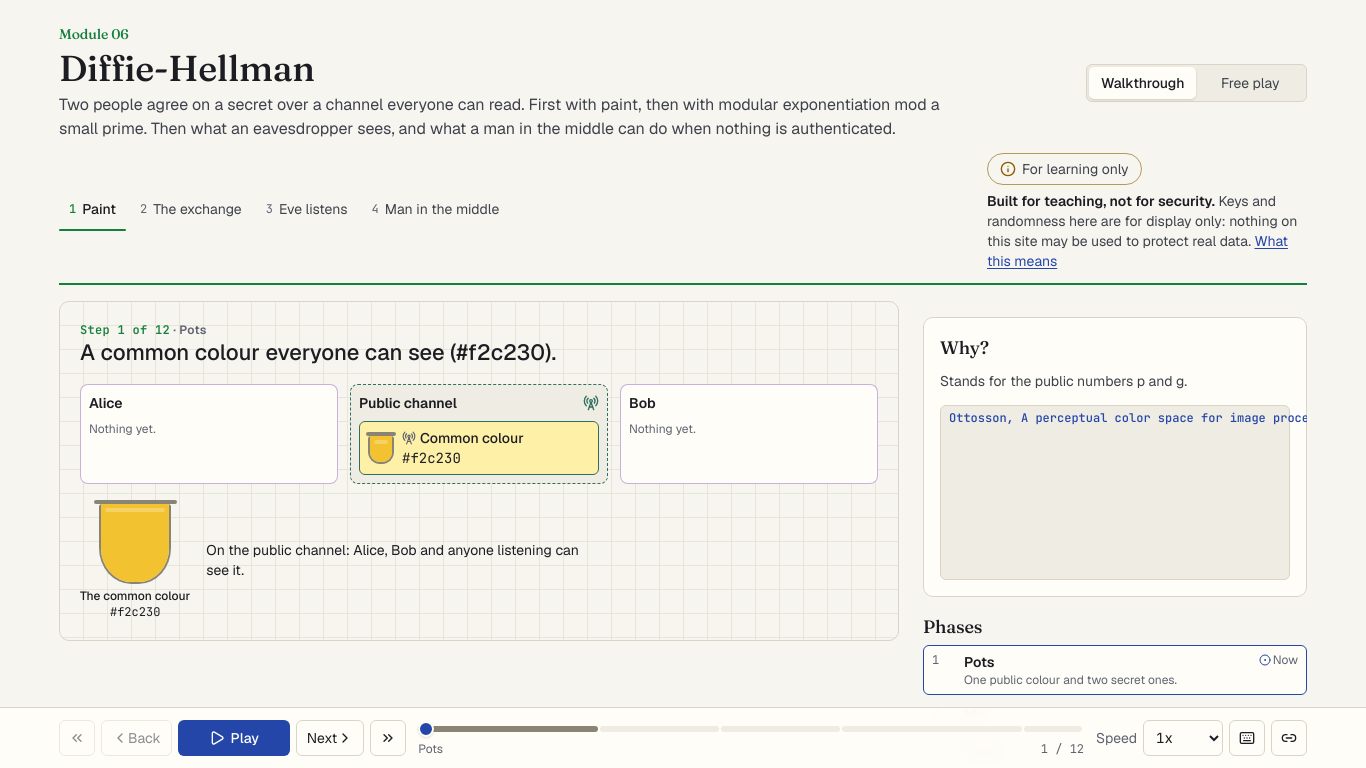
DhModule › takes free-play private keys and refuses one out of range
Click the button "2 The exchange": (191, 209) [130, 193, 252, 225]
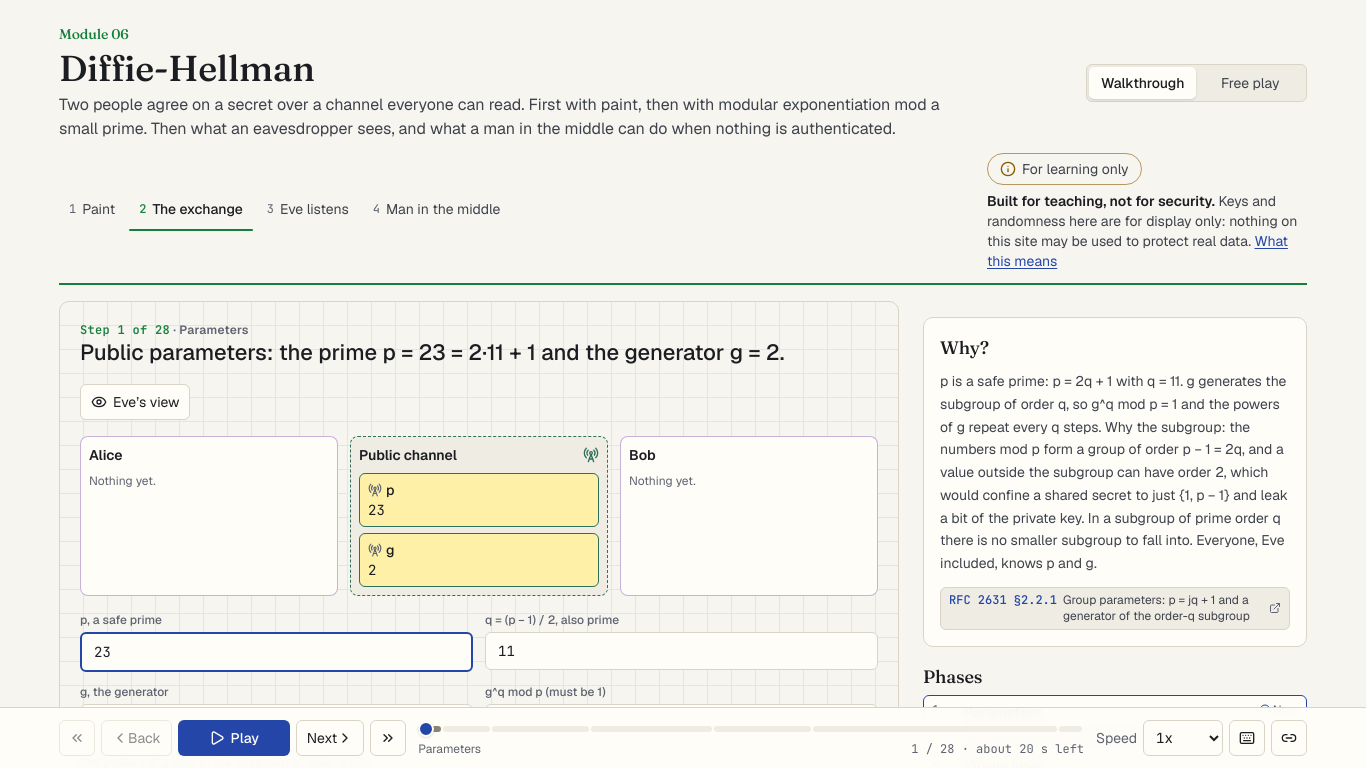
Click the button "Free play": (1250, 82) [1196, 66, 1304, 98]
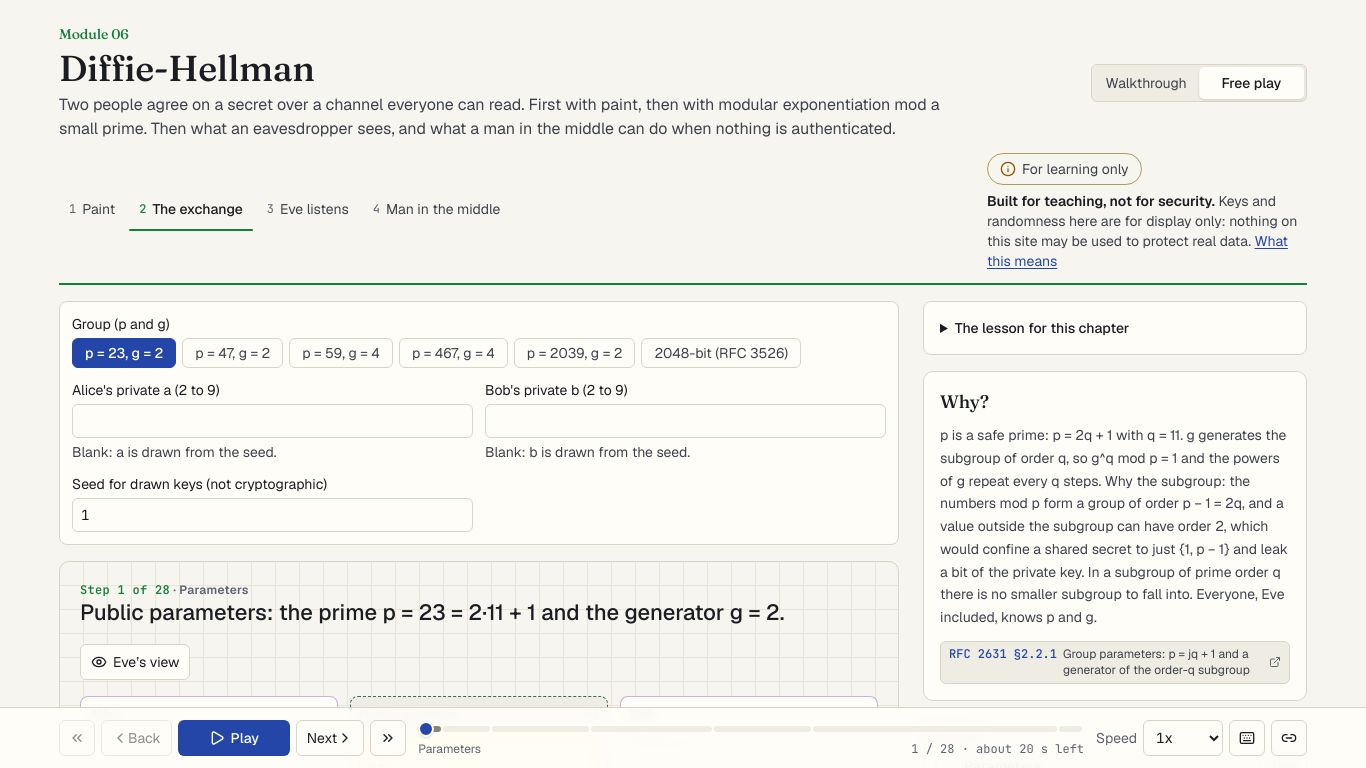
In the field labelled "Alice's private a (2 to 9)": (272, 421) [72, 404, 473, 438], type "20"
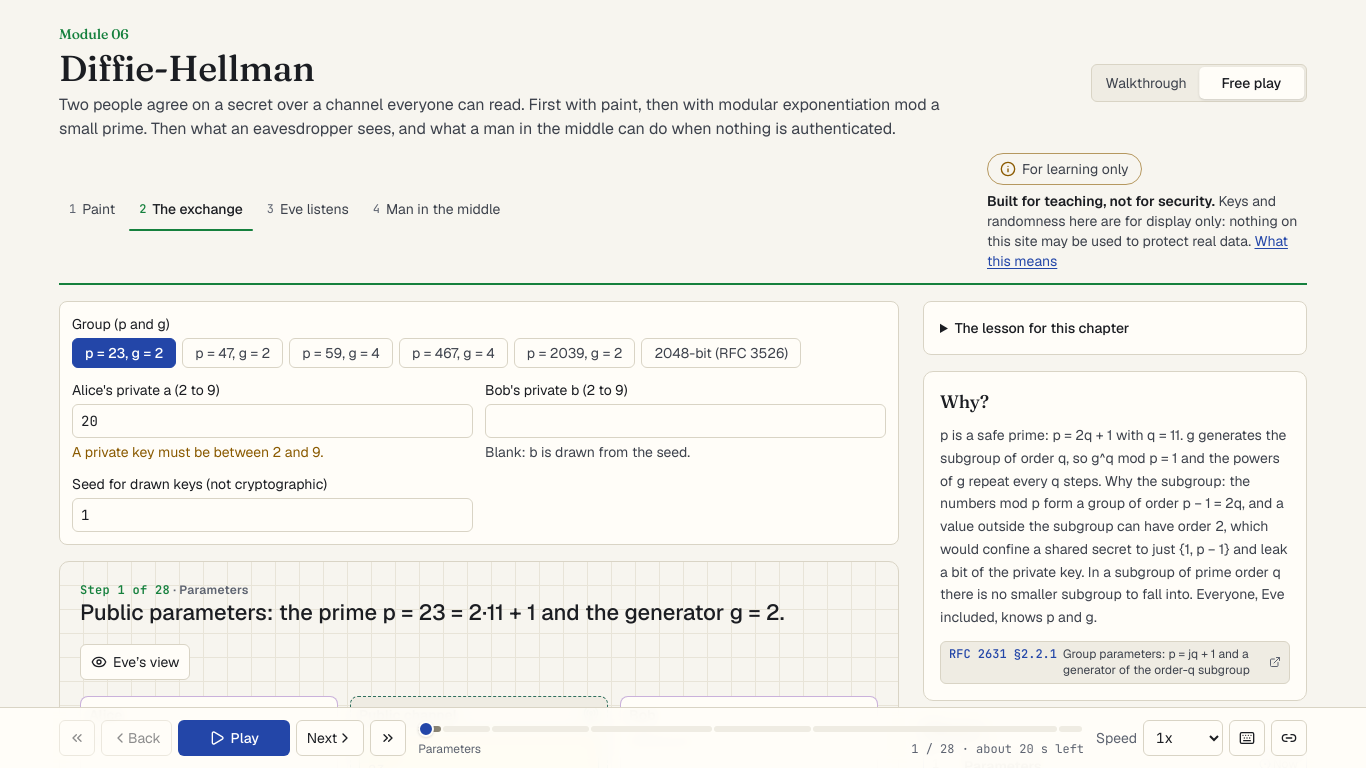
Now the text with test id "dh-a-feedback" shows "between 2 and 9", box [72, 443, 323, 461]
Replace the text in the field labelled "Alice's private a (2 to 9)" with "3": (272, 421) [72, 404, 473, 438]
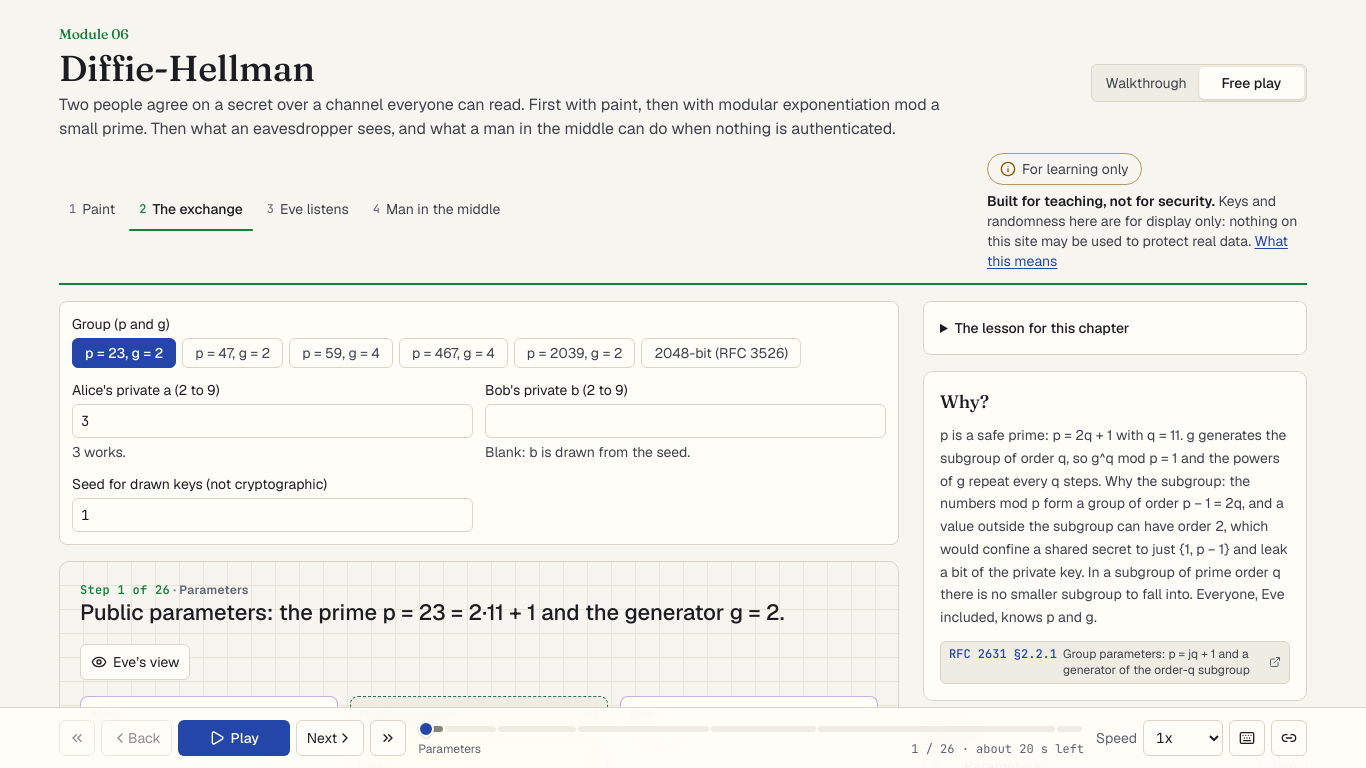
Press ArrowRight
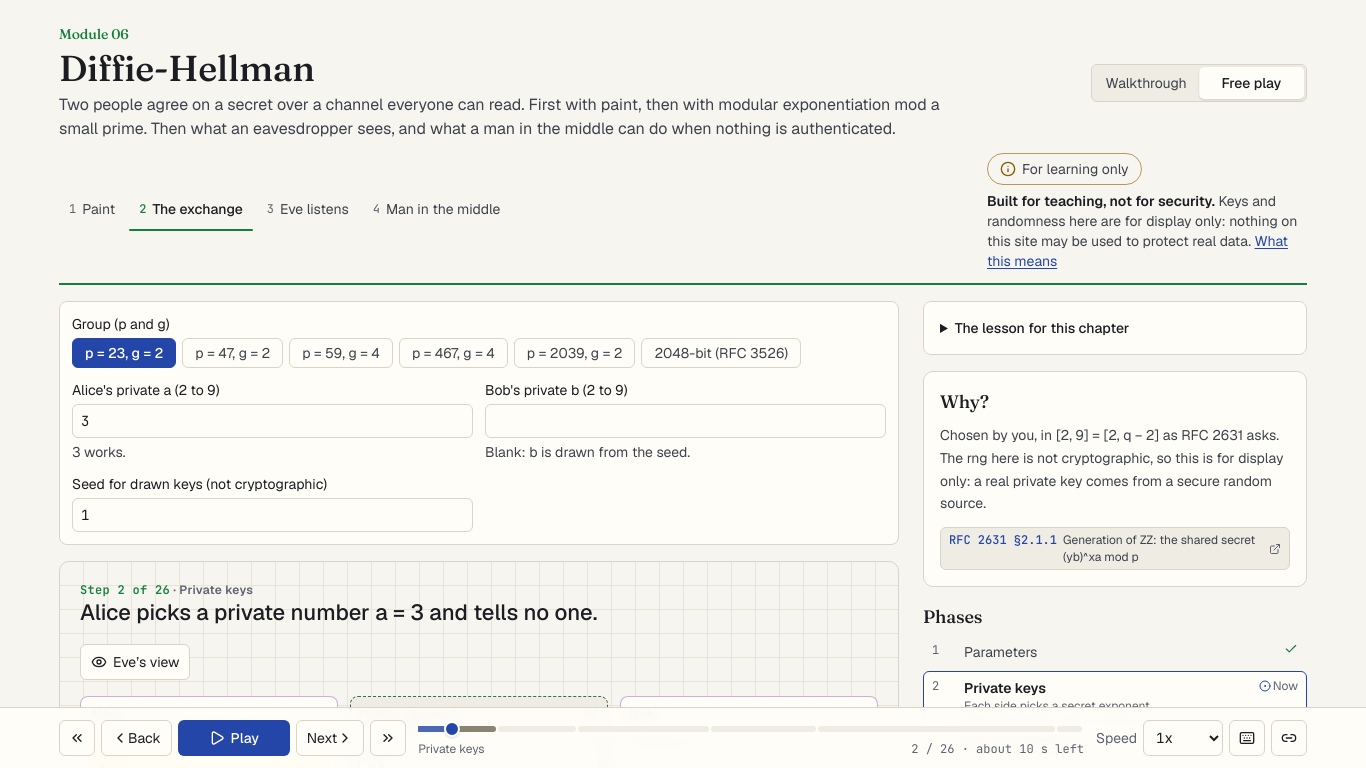
Now the message shows "a = 3", box [80, 598, 597, 626]
